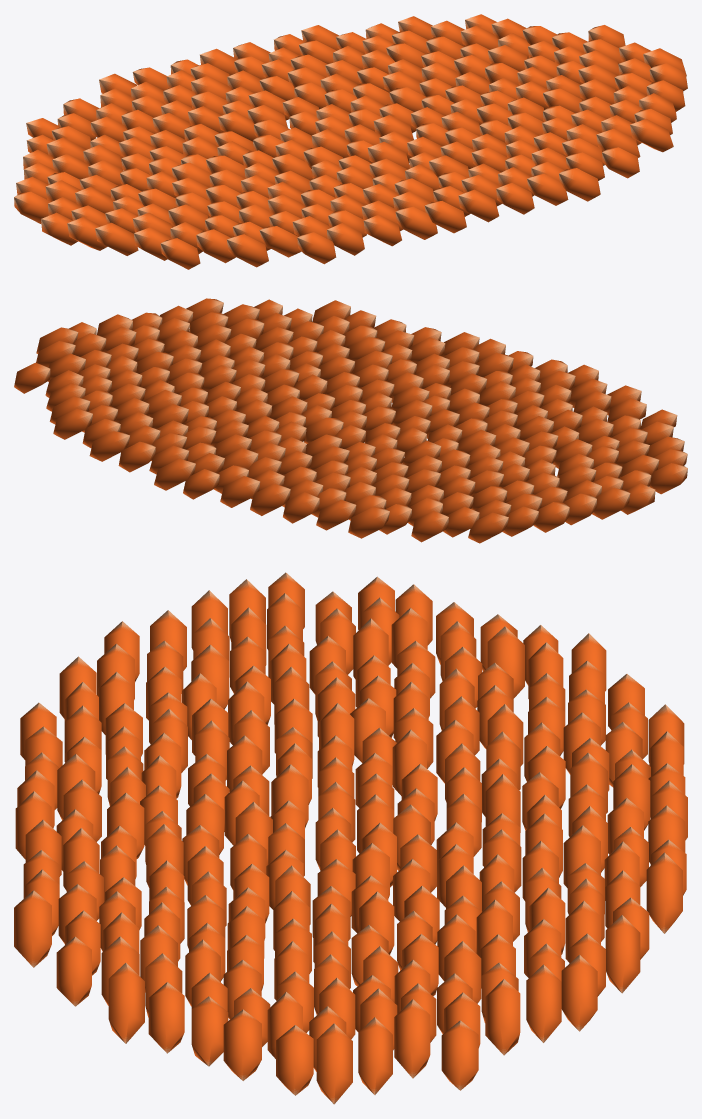
File: brood_clown_eggs_fresh.glb
The picture shows the model from 3 angles, top to bottom: view 1: azimuth 30°, elevation 25°; view 2: azimuth 150°, elevation 25°; view 3: azimuth 270°, elevation 25°; orthographic projection. The views are drawn at different scales.
Visible parts, largest first — view 1: Body; view 2: Body; view 3: Body.
Boxes of the visible parts, x1,y1,x2,y2 form: Body: [14, 14, 687, 269]; Body: [14, 298, 687, 543]; Body: [14, 572, 687, 1104].
Size of the model in its own units: 0.9851 by 0.0515 by 0.5767.
1 material, 1 textured.
